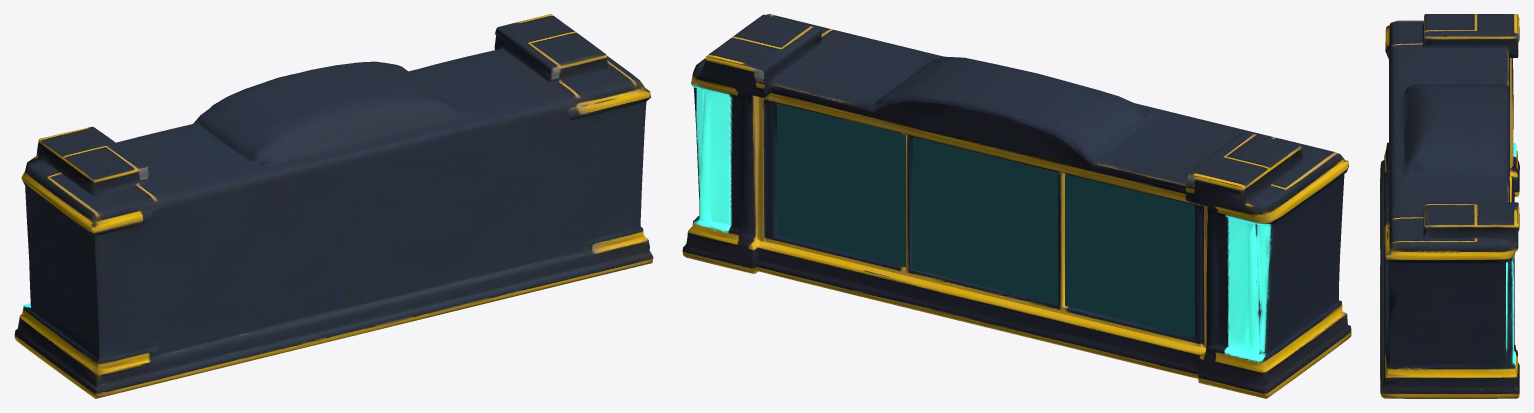
File: slot_tripo.glb
3 views of the same model, side by side, from view 1: azimuth 30°, elevation 25°; view 2: azimuth 150°, elevation 25°; view 3: azimuth 270°, elevation 25° (orthographic). The views are drawn at different scales.
Parts seen in each view (by area): view 1: slot_tripo; view 2: slot_tripo, slot_reel_glass; view 3: slot_tripo.
Part boxes in pixels (bbox=[...]): slot_tripo: bbox=[14, 14, 653, 398]; slot_tripo: bbox=[682, 14, 1351, 398]; slot_reel_glass: bbox=[777, 103, 1194, 337]; slot_tripo: bbox=[1380, 14, 1519, 398].
Bounding box in the file's own units: 2.24 × 0.7946 × 0.5748.
2 materials, 1 textured.
